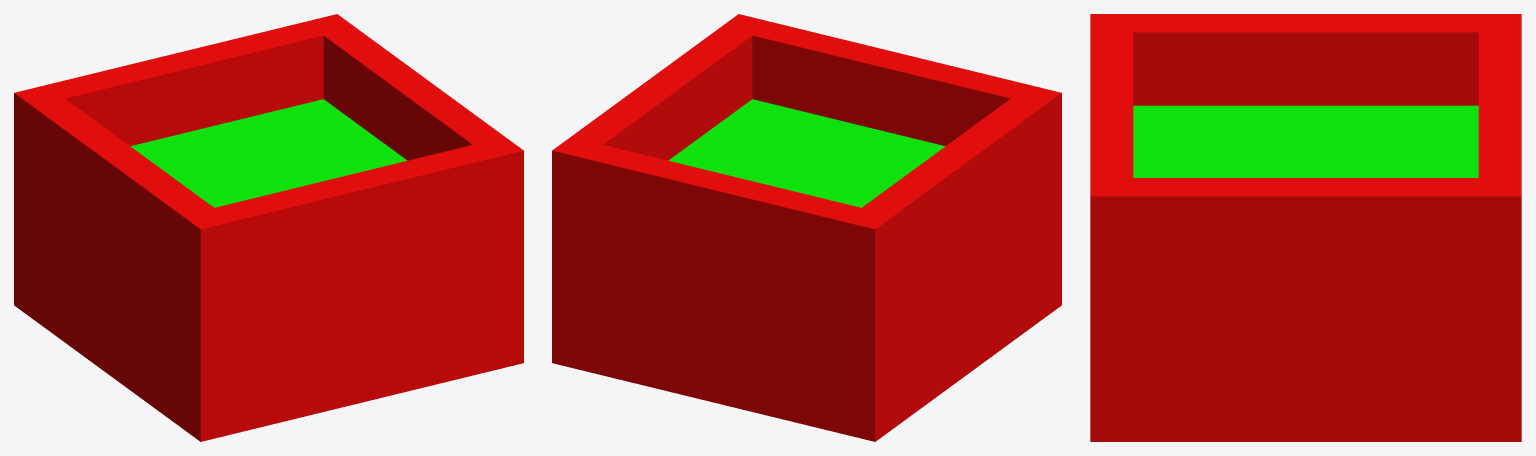
Rendered from SM_Kart_Wheel_2.fbx.
3 views of the same model, side by side, from view 1: azimuth 30°, elevation 25°; view 2: azimuth 150°, elevation 25°; view 3: azimuth 270°, elevation 25° (orthographic). The views are drawn at different scales.
Parts seen in each view (by area): view 1: SM_Kart_Wheels_2; view 2: SM_Kart_Wheels_2; view 3: SM_Kart_Wheels_2.
Part boxes in pixels (<box>): SM_Kart_Wheels_2: <box>14,14,523,441</box>; SM_Kart_Wheels_2: <box>552,14,1061,441</box>; SM_Kart_Wheels_2: <box>1090,14,1521,441</box>.
Size of the model in its own units: 106 by 66.87 by 106.
